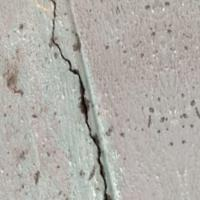crack: (40, 0, 116, 199)
